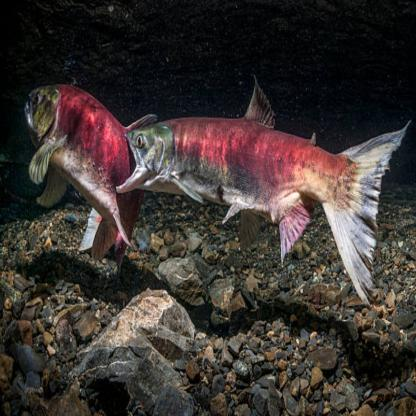sockeye: (140, 87, 376, 246), (19, 64, 132, 259)
